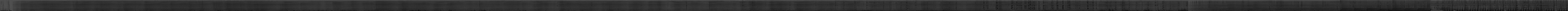Moan: (900, 0, 902, 11), (983, 0, 985, 11), (686, 0, 687, 11), (709, 0, 710, 11), (996, 0, 997, 11)
